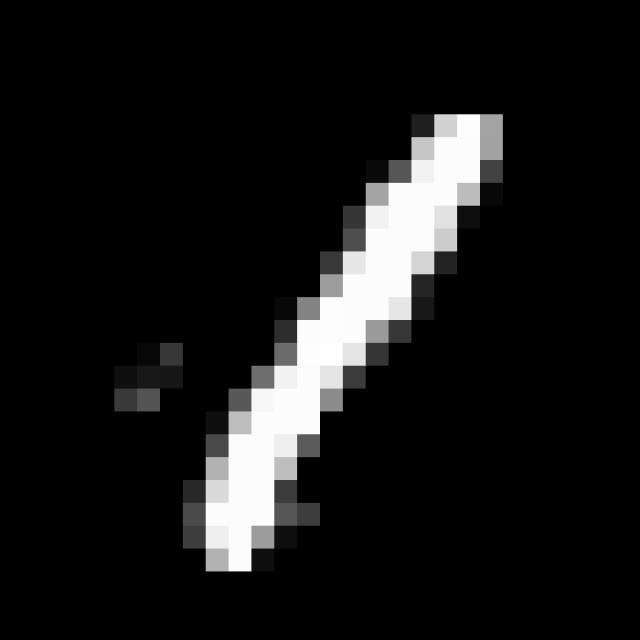one -1-: (180, 89, 530, 594)
